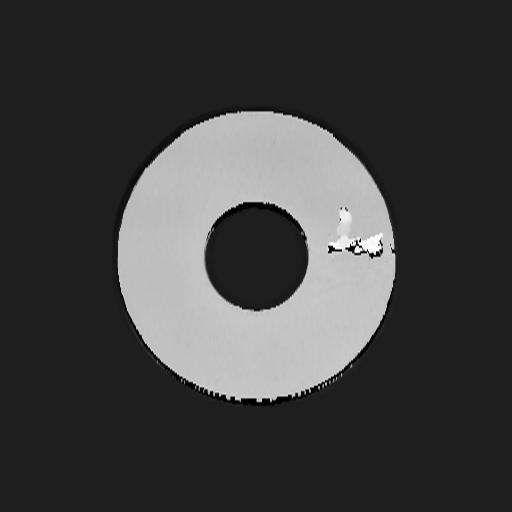defect: (328, 206, 383, 259)
